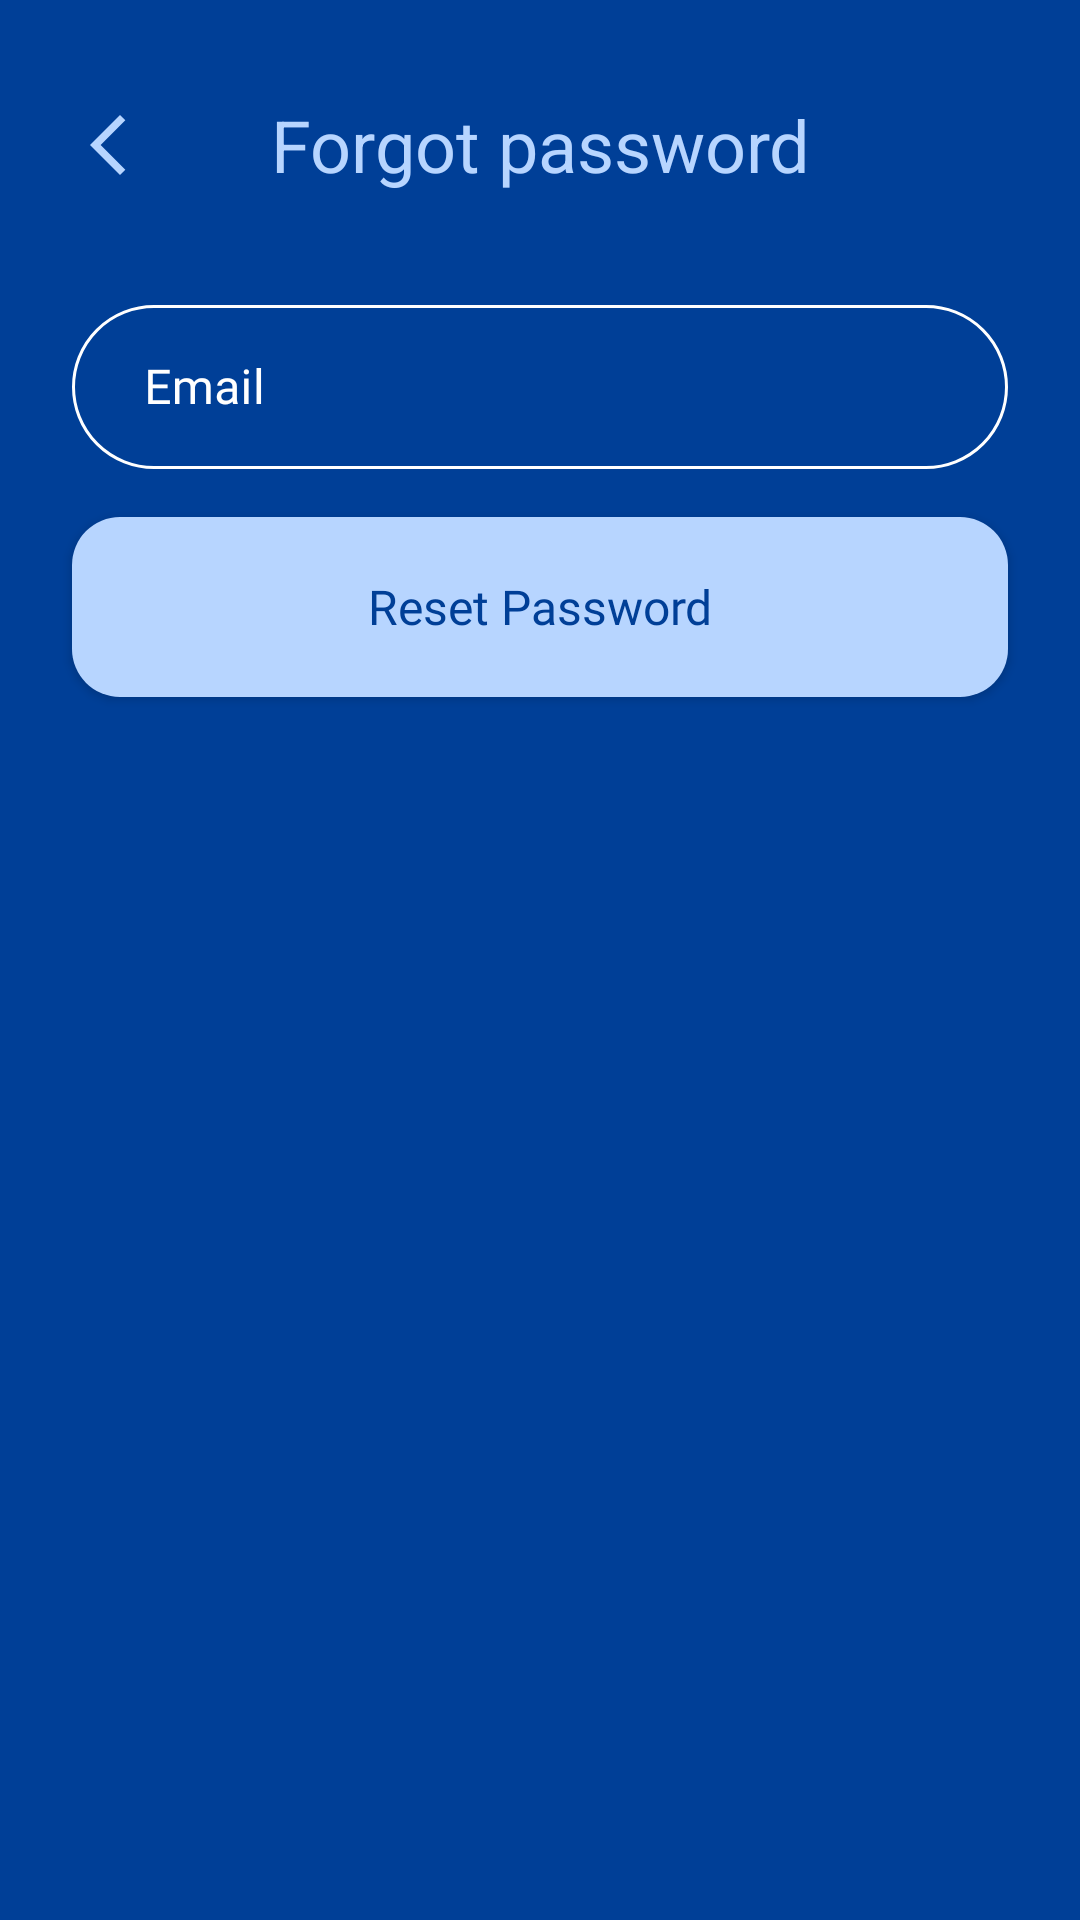

Locate icon controls on the screen. Image size 1080 × 1920, boxes as (x1, y1, x2, y2).
Back: (90, 115, 125, 175)
